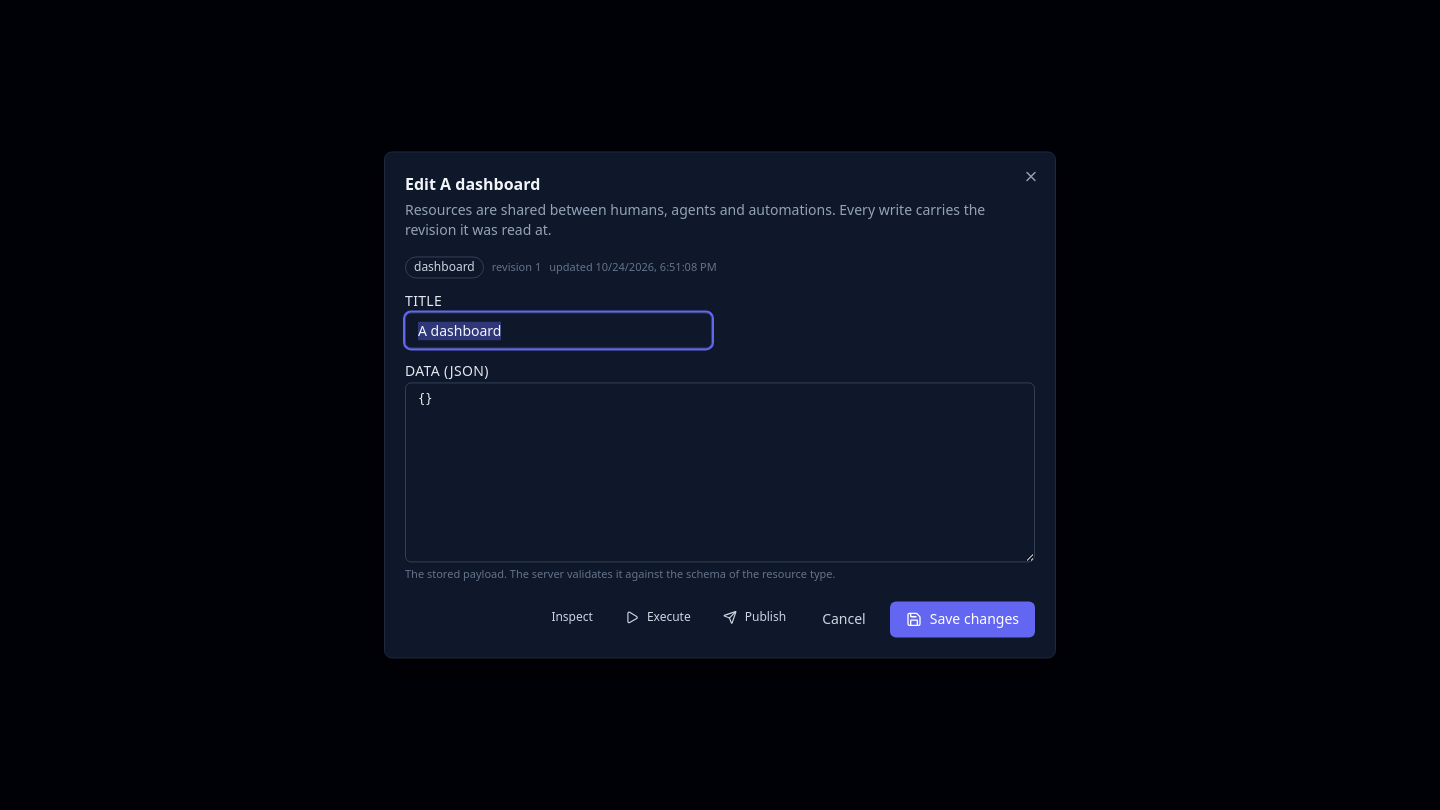
a refusal › is shown as a refusal, and claims no success
Click the button "Publish": x=754, y=618 [711,602,798,634]
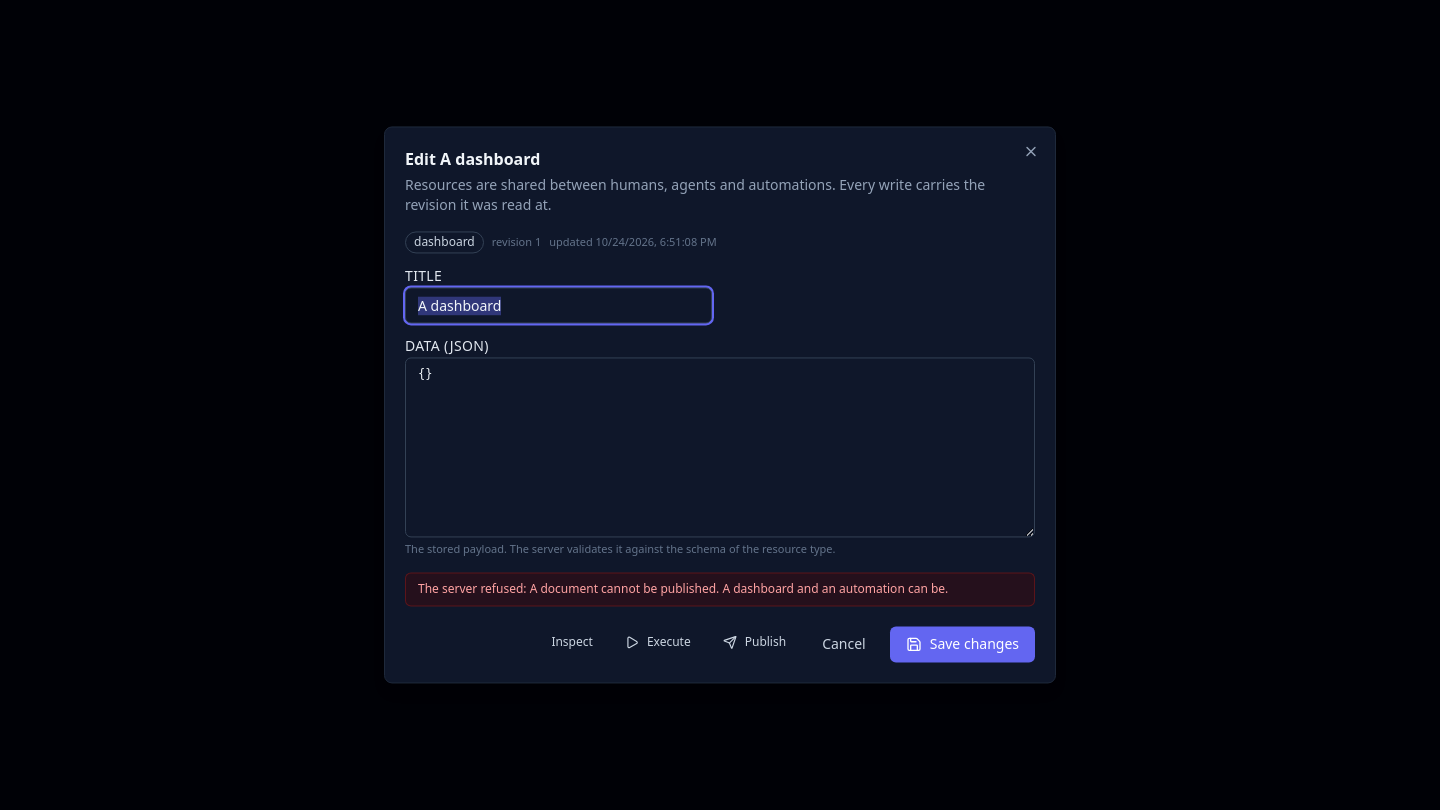
Expected: the text "A document cannot be published" is shown, [418,581,948,598]
